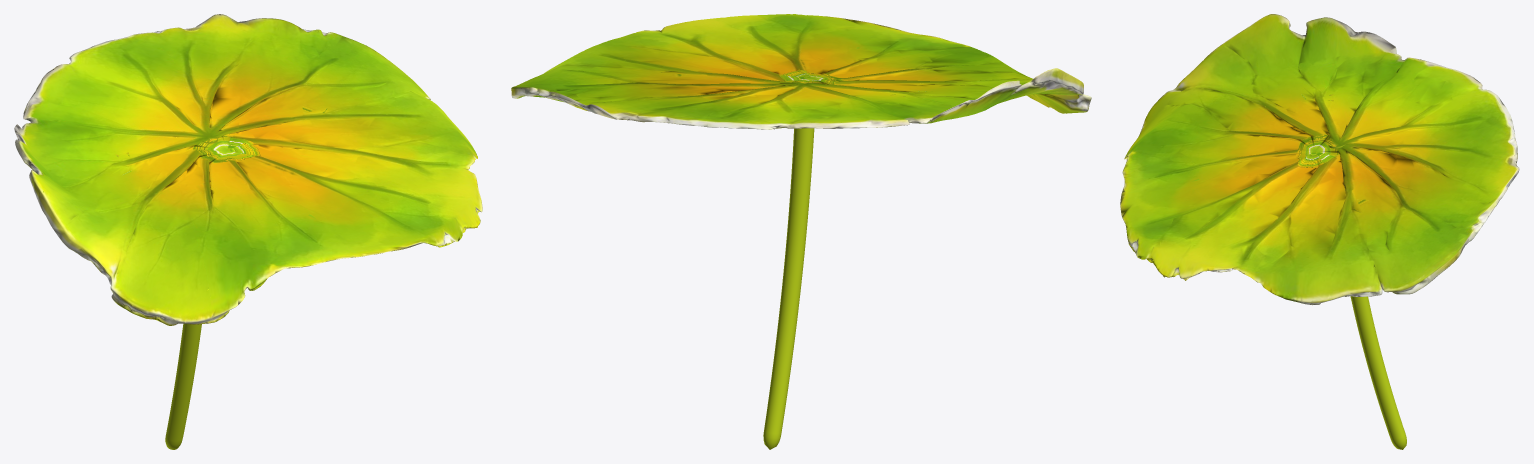
3 views of the same model, side by side, from view 1: azimuth 30°, elevation 25°; view 2: azimuth 150°, elevation 25°; view 3: azimuth 270°, elevation 25° (orthographic). The views are drawn at different scales.
Parts seen in each view (by area): view 1: leaf; view 2: leaf; view 3: leaf.
Boxes of the visible parts, box(x1,y1,x2,y2) form: leaf: box(14, 14, 482, 449); leaf: box(511, 14, 1091, 449); leaf: box(1120, 14, 1519, 449).
Size of the model in its own units: 2.34 by 1.85 by 1.93.
Materials: 1 (1 with a texture image).
